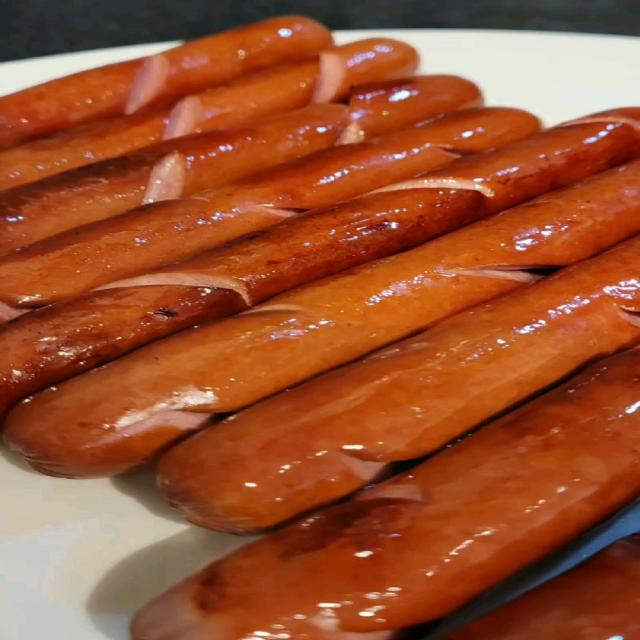sausage: (134, 350, 639, 639), (160, 237, 639, 530), (20, 207, 535, 477), (0, 108, 538, 307), (0, 201, 411, 413), (0, 39, 417, 189), (0, 105, 348, 254), (0, 16, 332, 147), (0, 139, 183, 253), (445, 536, 639, 639), (346, 75, 482, 141)
